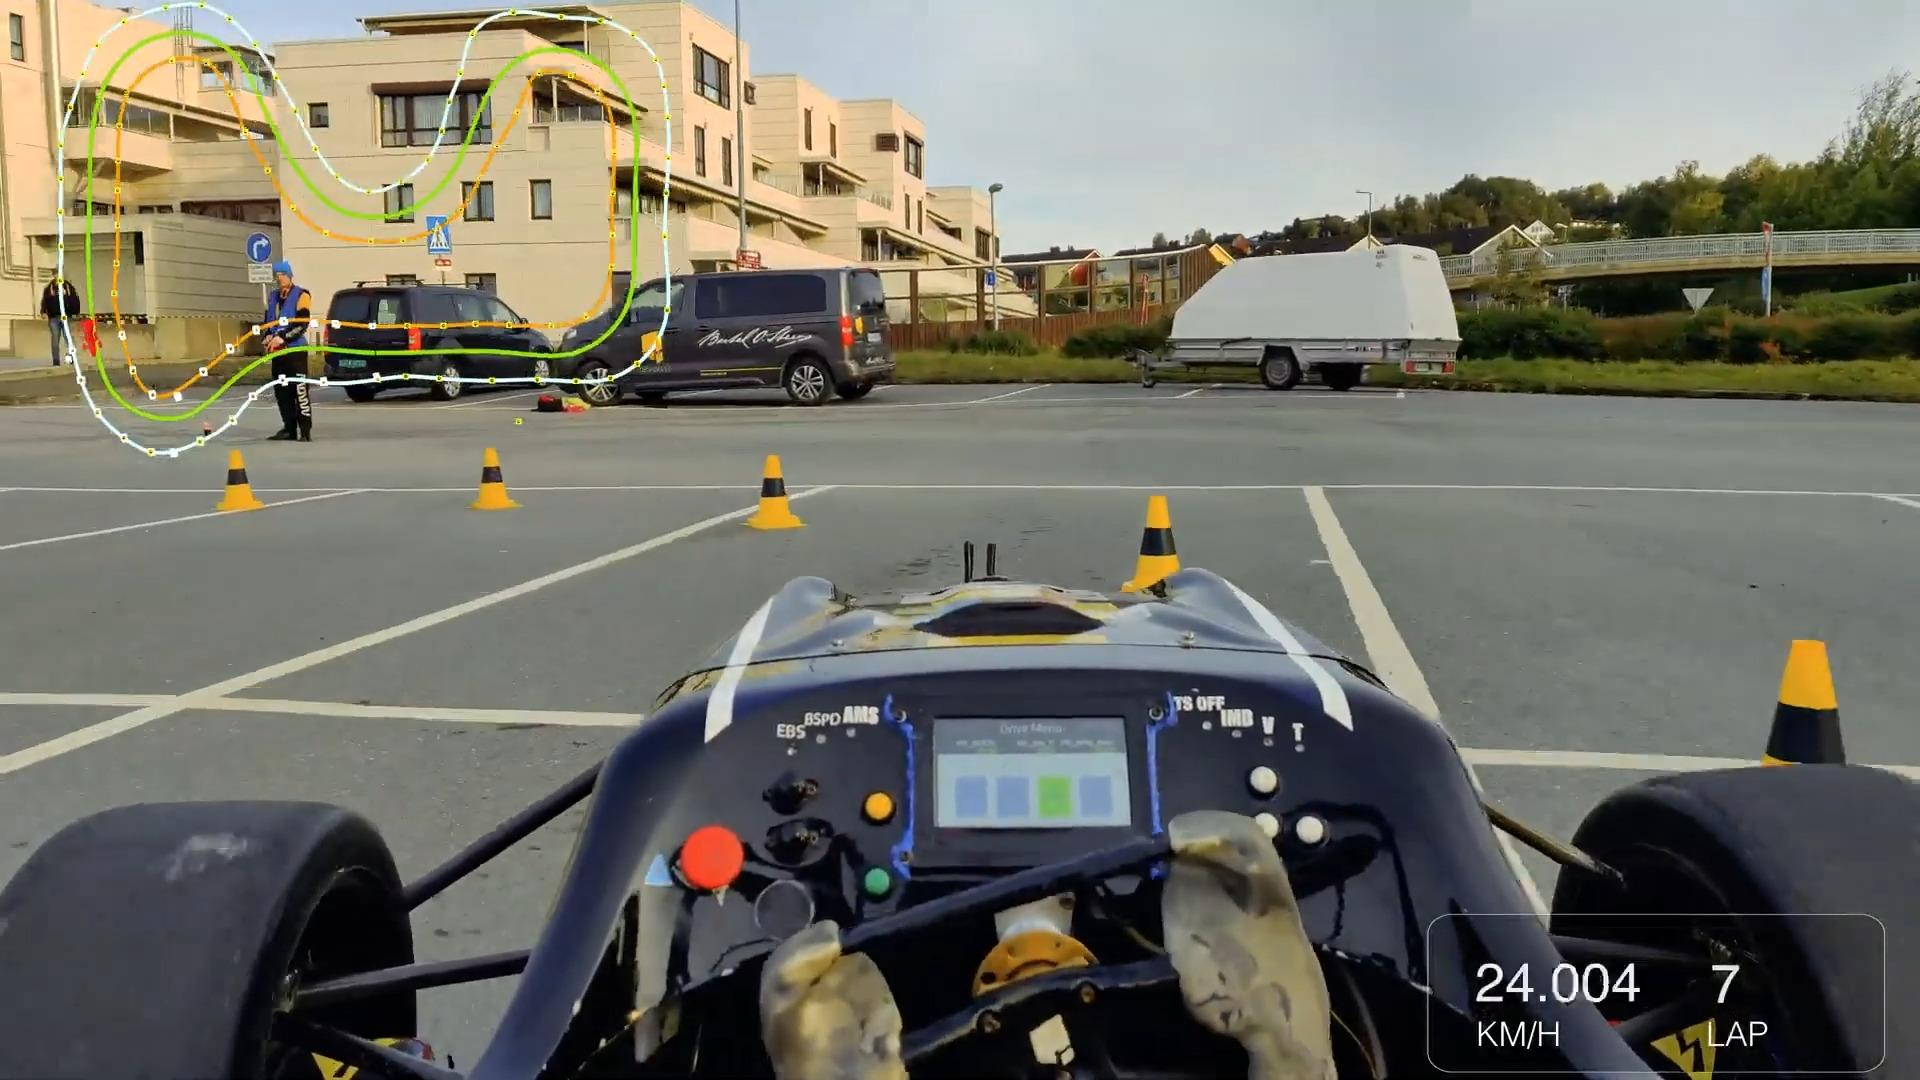yellow_cone: (1729, 629, 1883, 898), (1125, 492, 1191, 603), (746, 459, 807, 538), (469, 444, 527, 518), (215, 448, 262, 521)
